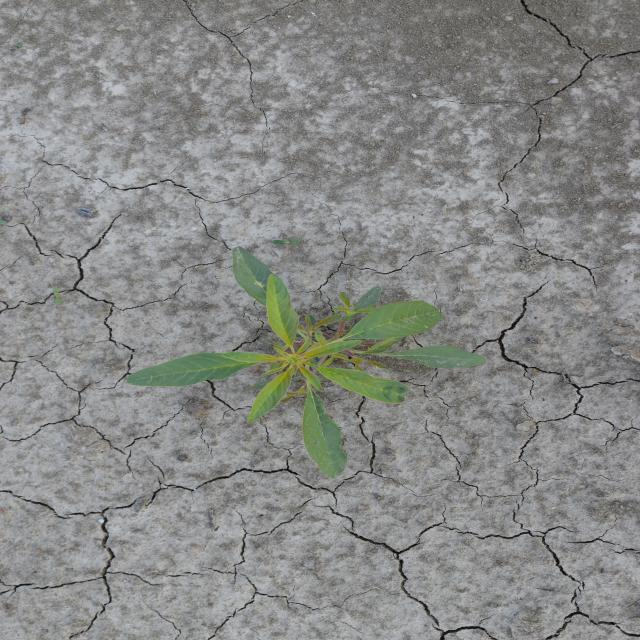Waterhemp: (121, 245, 491, 480)
